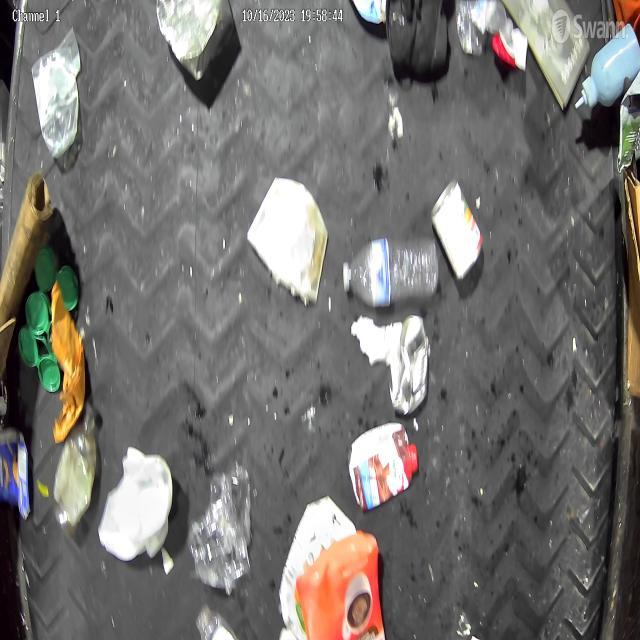can: (151, 0, 233, 91), (432, 180, 484, 288)
milk_jug: (95, 440, 172, 560)
non_white_jug: (294, 535, 391, 640)
plastic_bottle: (338, 233, 441, 314)
